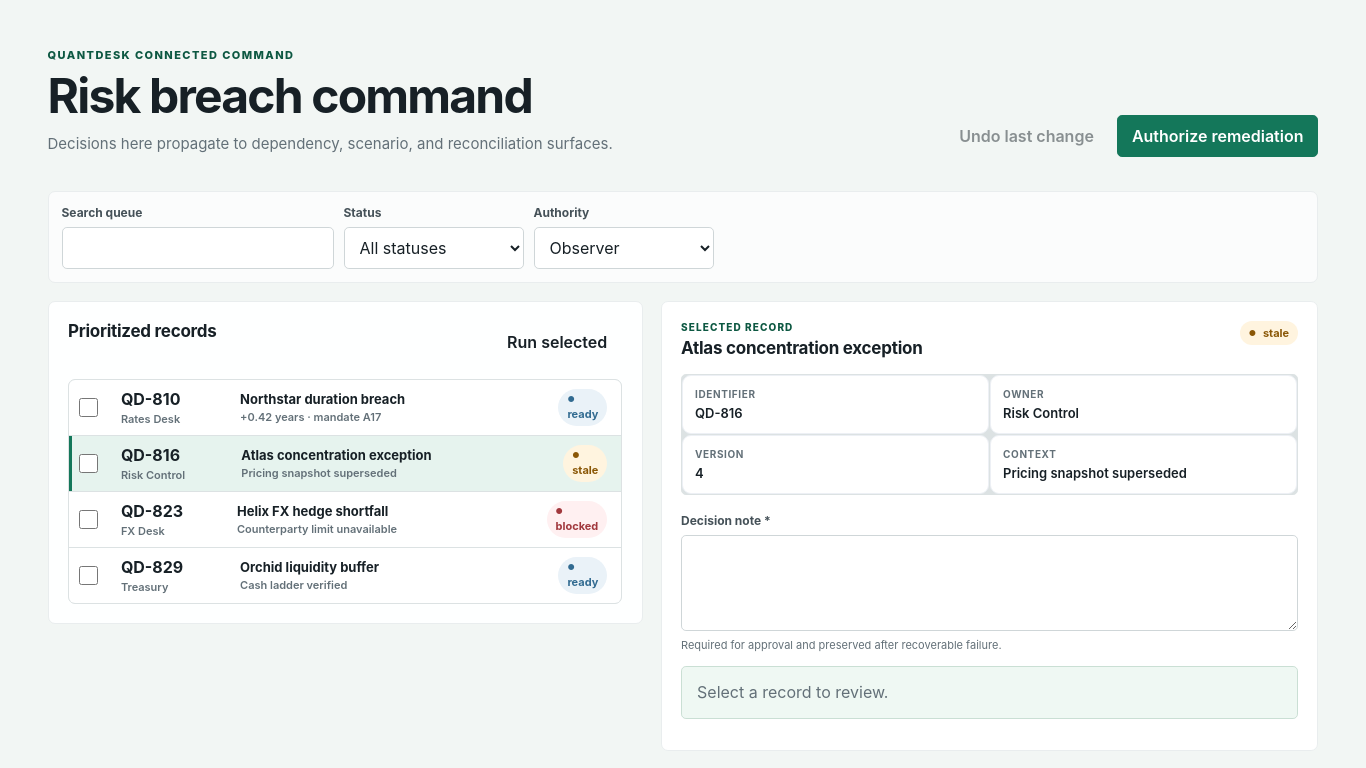
Test case: Risk breach command › recovers a stale save while preserving the decision note
Select "Approver" in the dropdown labelled "Authority": point(624, 248) left=534, top=227, right=714, bottom=269
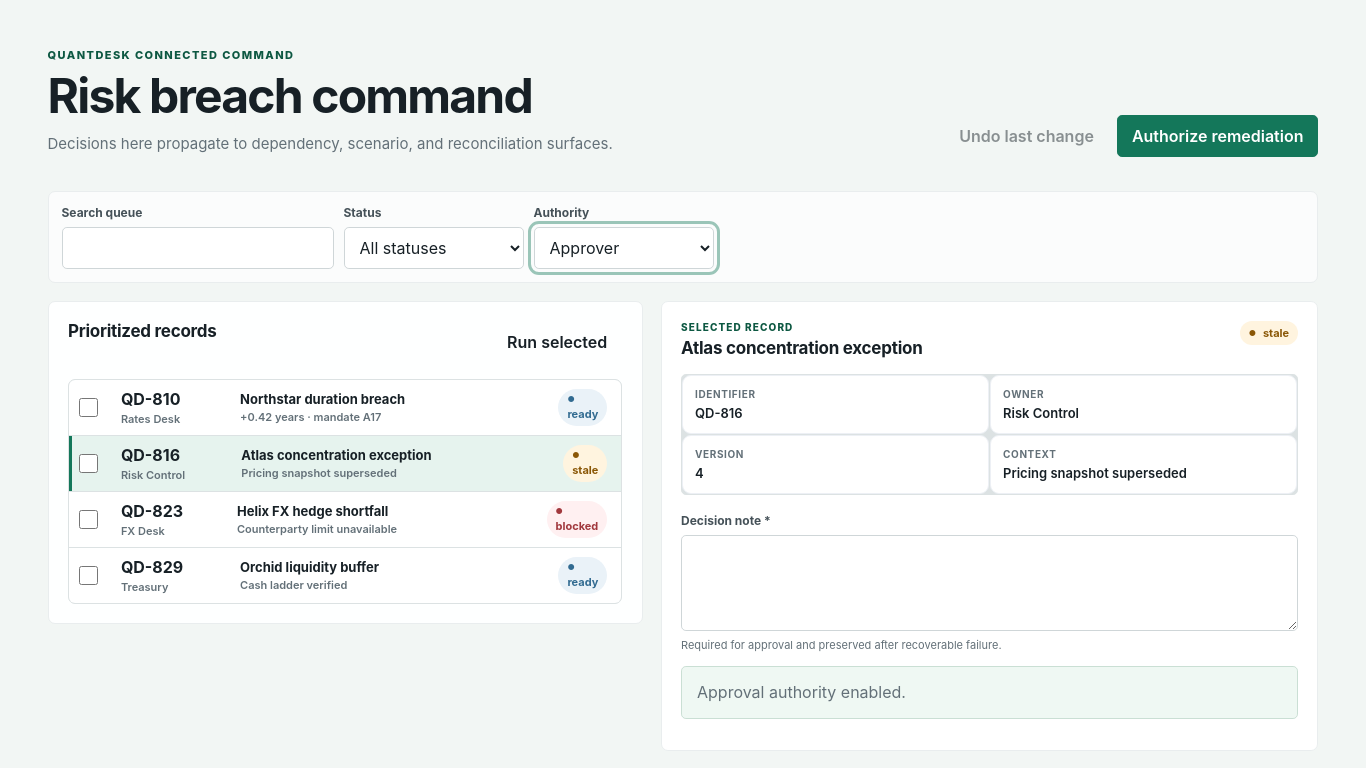
In the text box labelled "Decision note": point(990, 583) left=681, top=535, right=1298, bottom=631, type "Keep this evidence-based rationale"
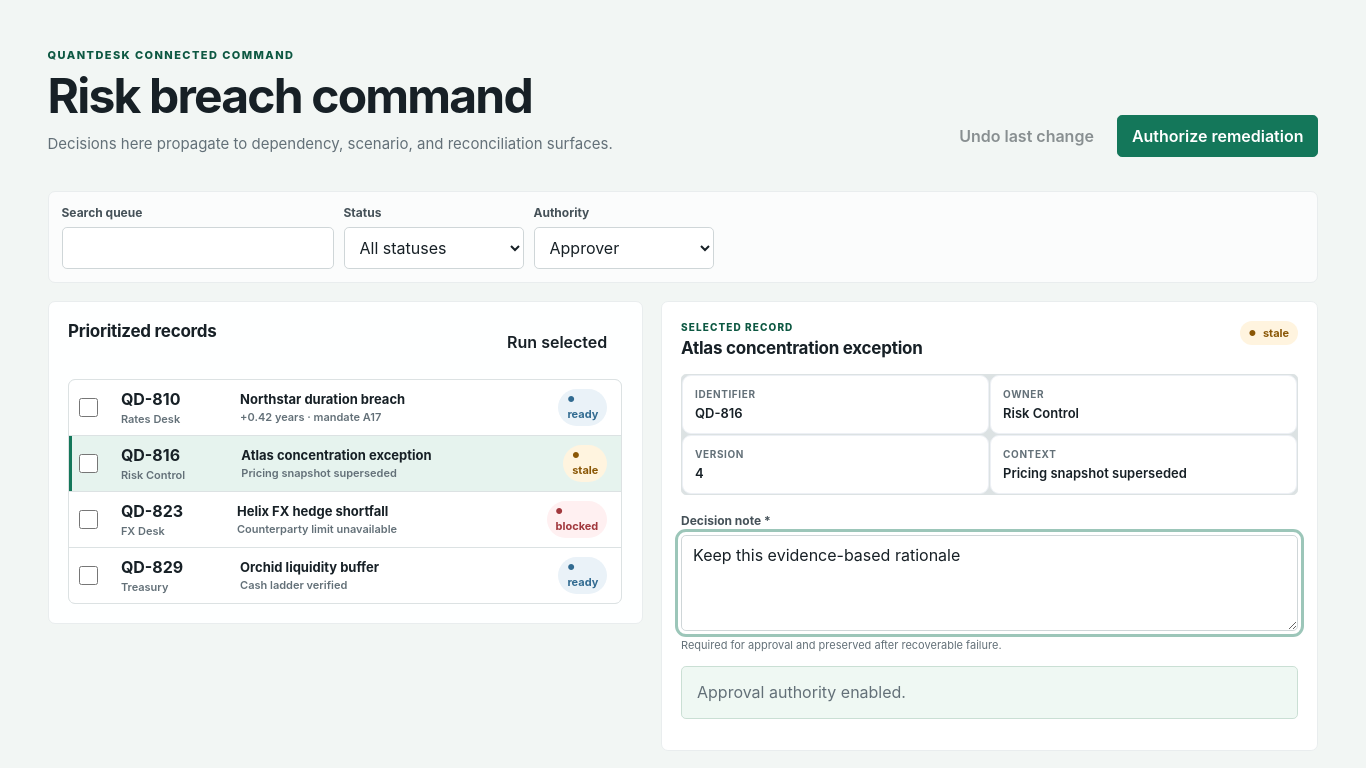
Click the button "Authorize remediation": point(1218, 136) left=1117, top=115, right=1318, bottom=157
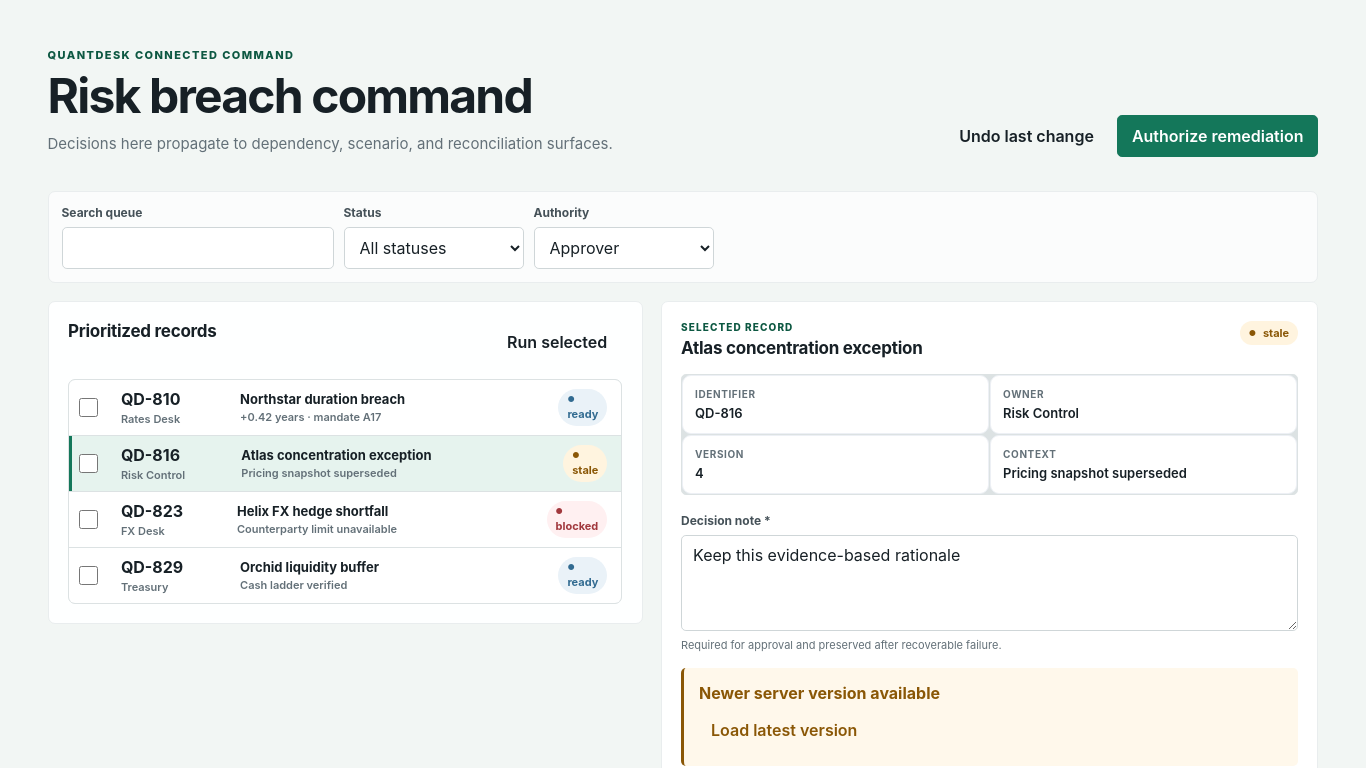
Expected: the message shows "Newer server version", left=699, top=683, right=940, bottom=703
Click the button "Load latest version": point(784, 730) left=699, top=709, right=1283, bottom=751
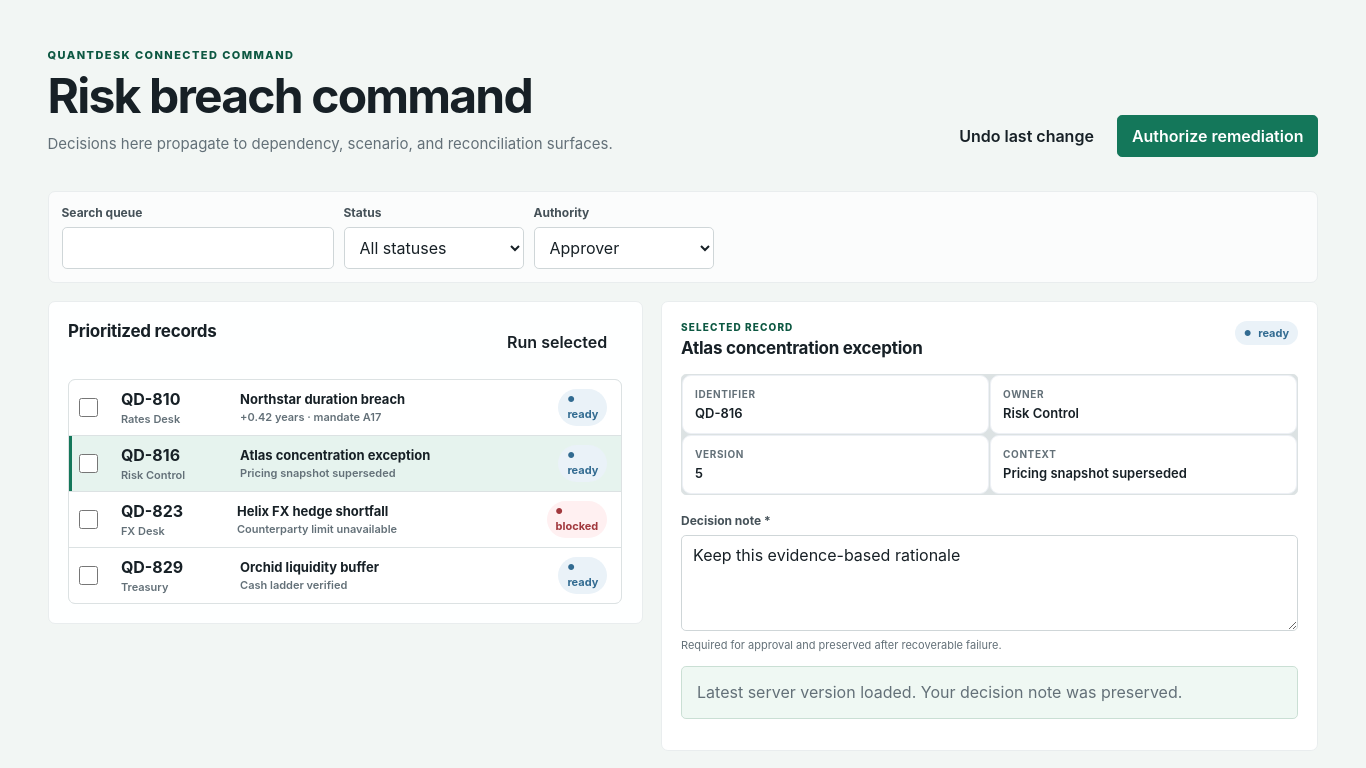
Click the button "Authorize remediation": point(1218, 136) left=1117, top=115, right=1318, bottom=157
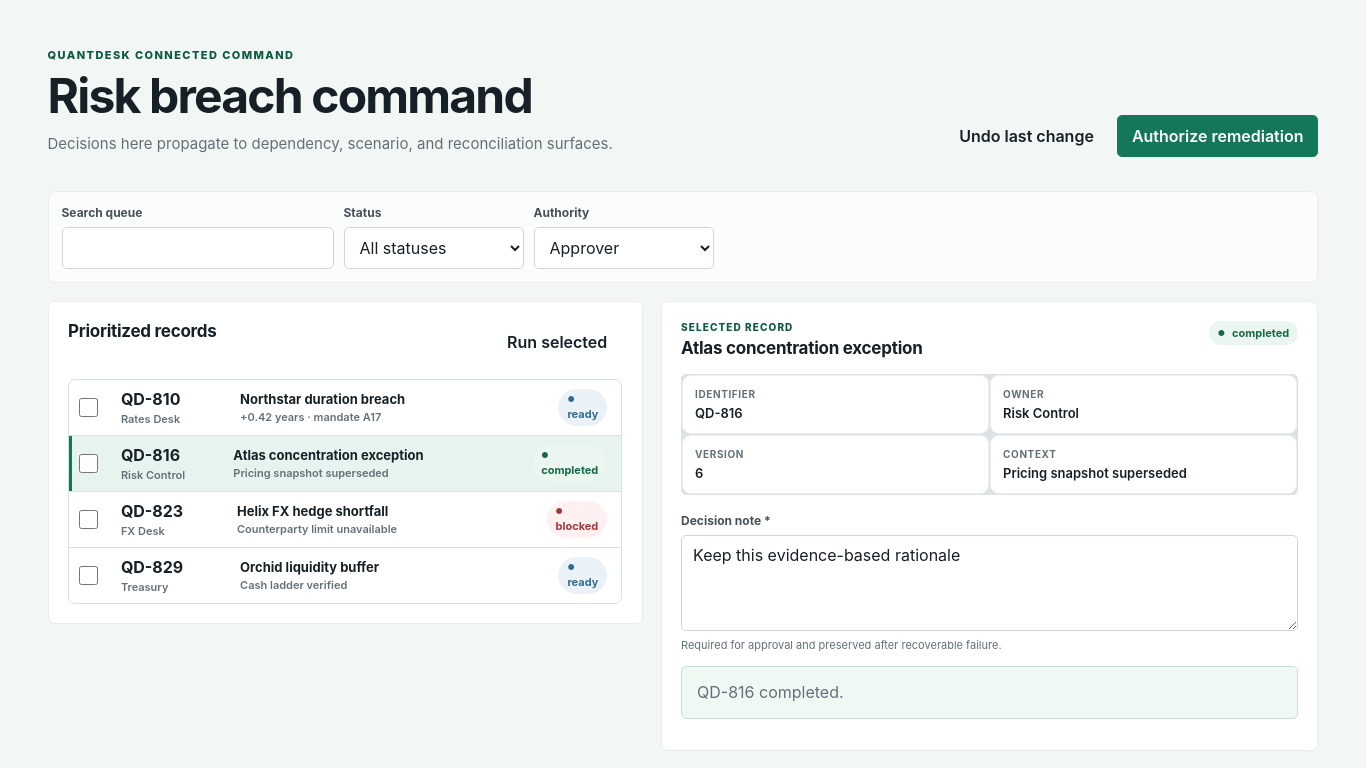
Expected: the message shows "completed", left=697, top=682, right=844, bottom=702
